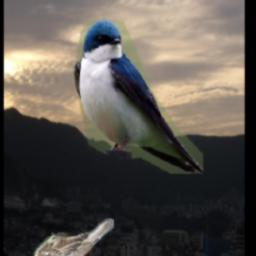Sparrow: (33, 218, 115, 256)
Swallow: (73, 19, 203, 175)
